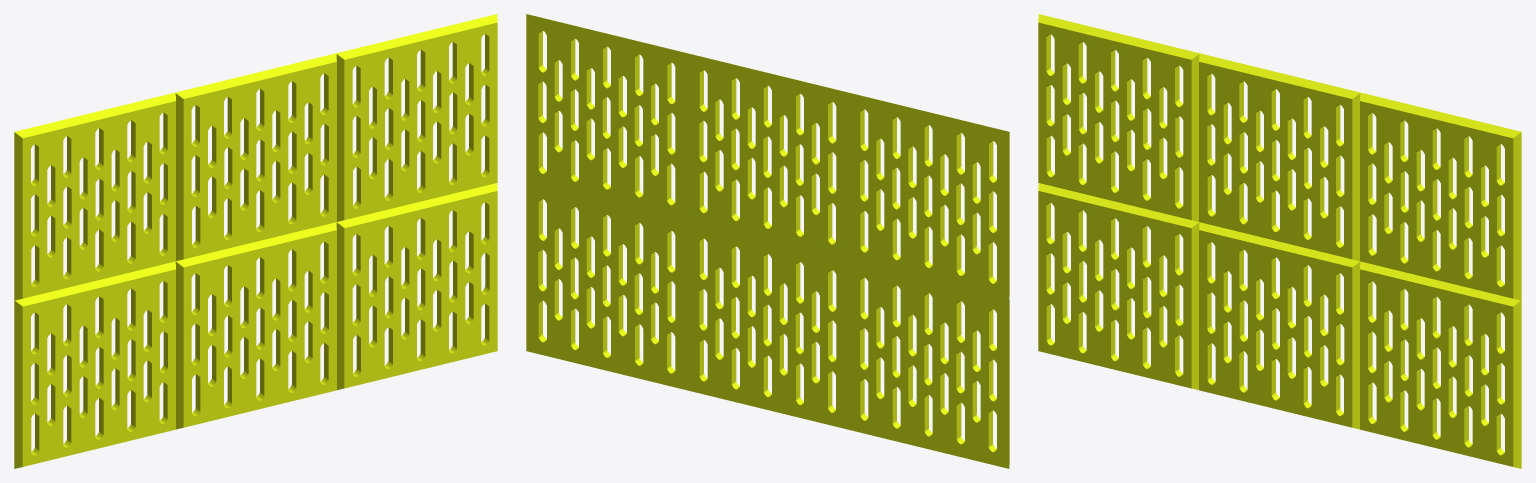
File: Platform3.fbx
3 views of the same model, side by side, from view 1: azimuth 30°, elevation 25°; view 2: azimuth 150°, elevation 25°; view 3: azimuth 330°, elevation 25° (orthographic).
Visible parts, largest first — view 1: TileMesh_005; view 2: TileMesh_005; view 3: TileMesh_005.
Part boxes in pixels (box(x1,y1,x2,y2)): TileMesh_005: box(14, 14, 497, 468); TileMesh_005: box(526, 14, 1009, 468); TileMesh_005: box(1038, 14, 1521, 468).
Bounding box in the file's own units: 6007 × 4006 × 95.99.
